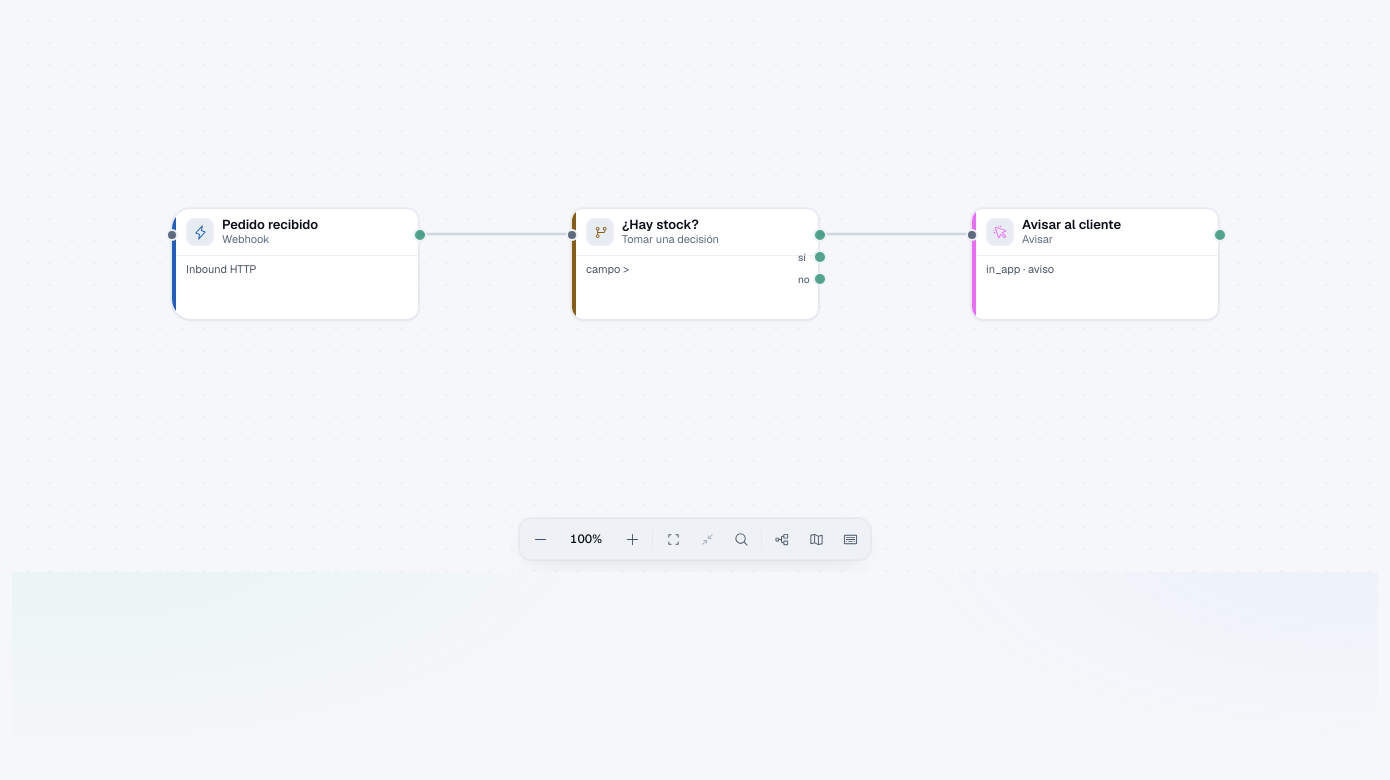
it: WorkflowCanvas › arrastrar un nodo confirma la posición una sola vez, redondeada y como paso de historial
Press the mouse on the button "¿Hay stock? Tomar una decisión campo >": [695, 264] box [571, 208, 819, 320]
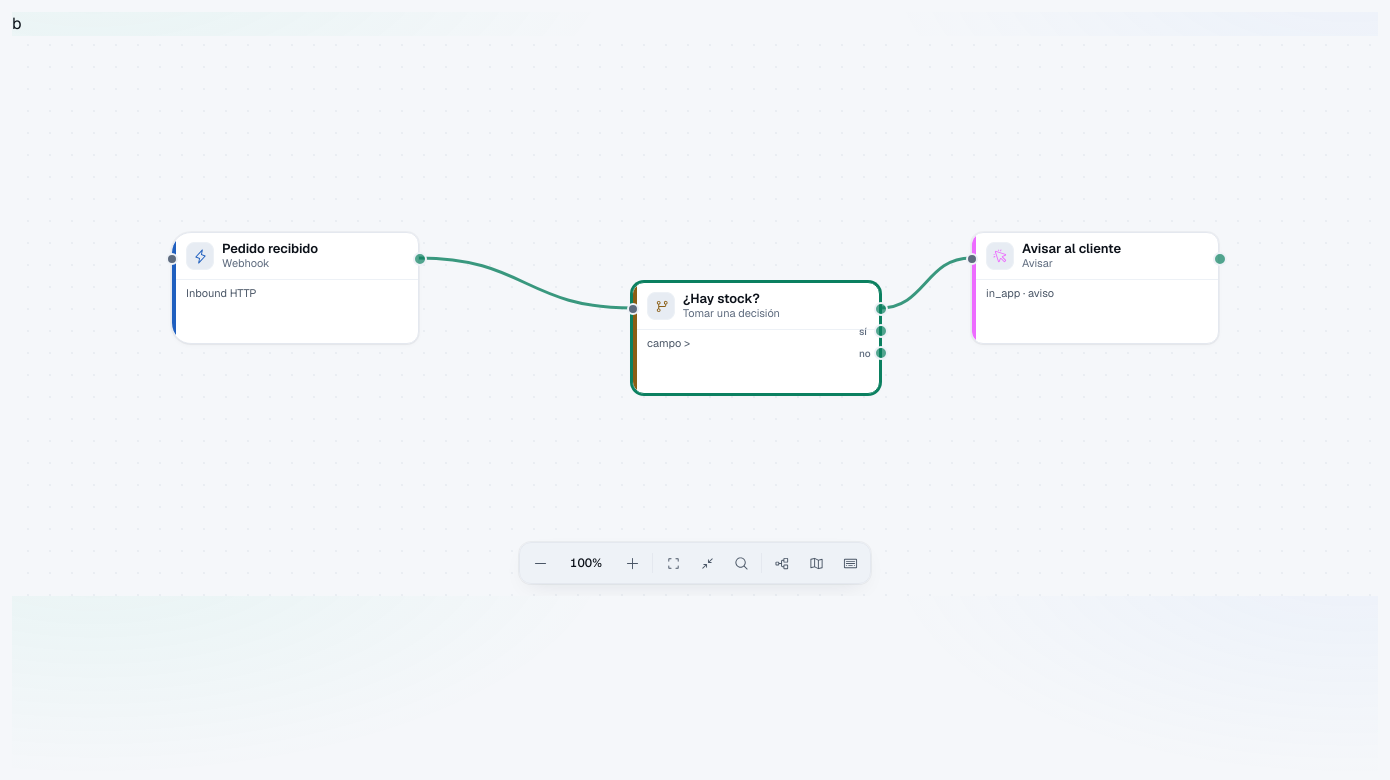
Expected: the text with test id "selected" reads "b", [12, 13, 22, 34]
